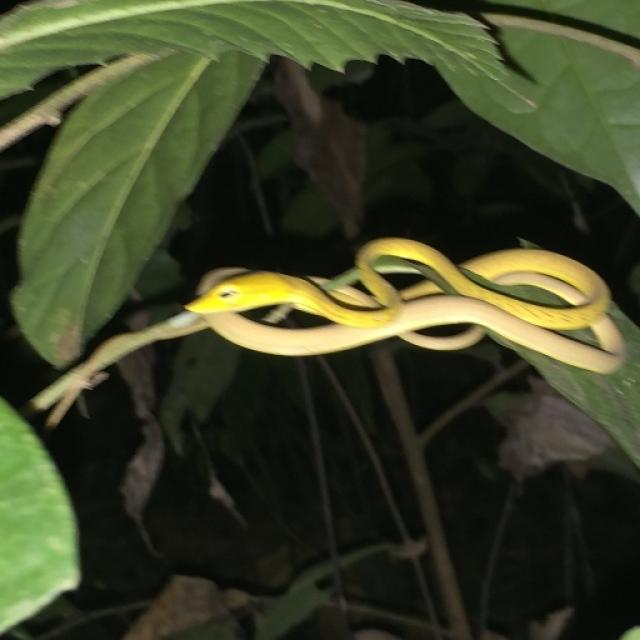snake: (177, 220, 630, 404)
